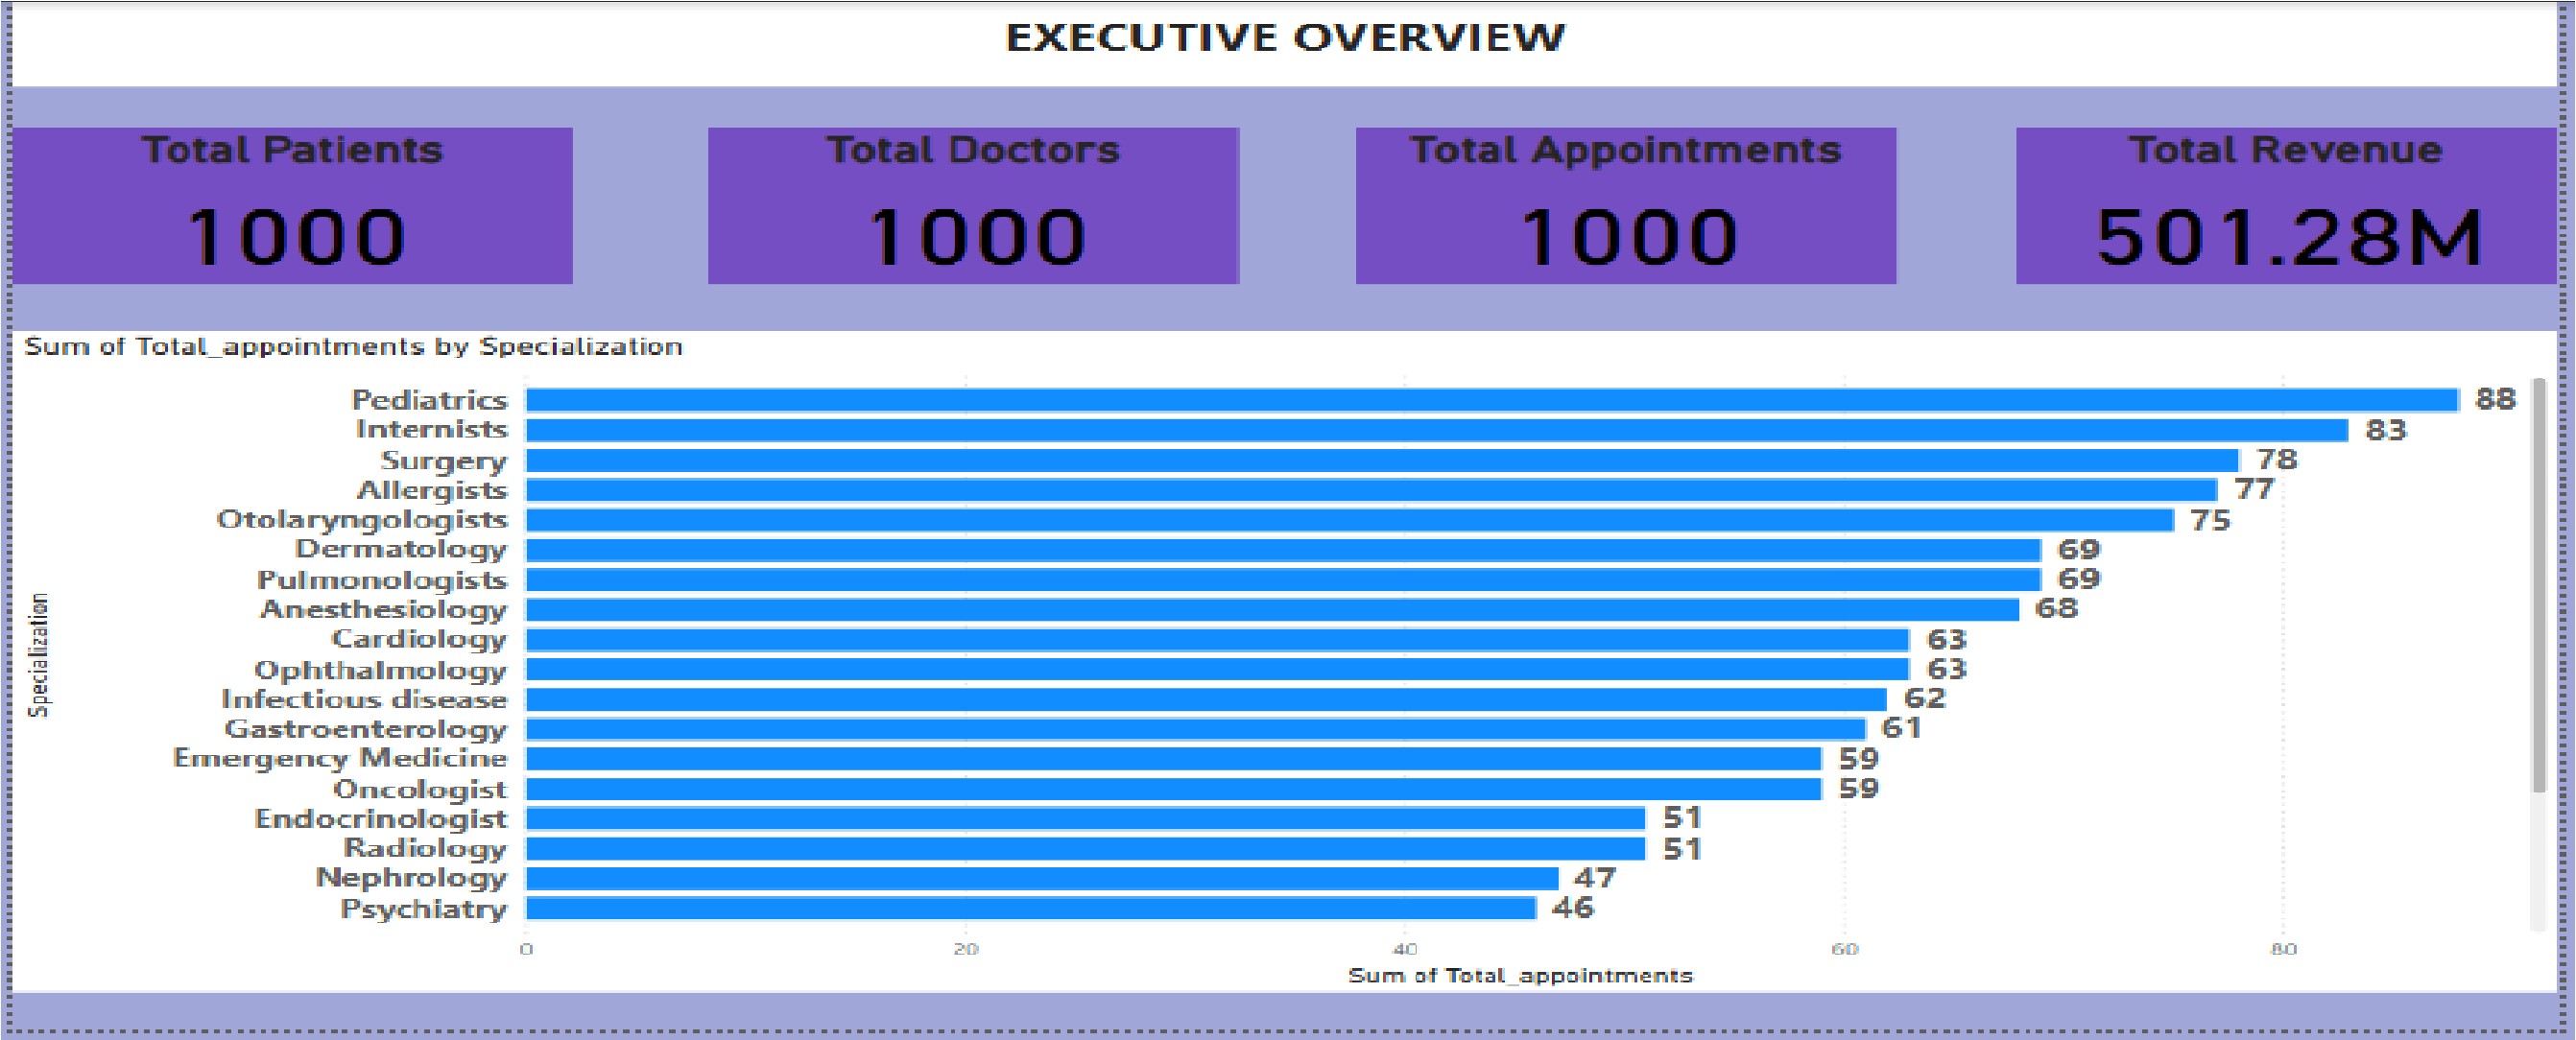

Layout of this report page (visuals, bound fields, positions):
{"tool":"powerbi","page":{"name":"Executive Overview","canvas":[1280,720],"ordinal":4},"visuals":[{"type":"textbox","box":[0,0,1279.8,58.8],"z":0},{"type":"card","title":"Total  Patients","fields":{"Values":["Sum(hospital vw_hospital_dashboard.Total_patients)"]},"box":[0,88.2,282.1,108.7],"z":1000},{"type":"card","title":"Total Doctors","fields":{"Values":["Sum(hospital vw_hospital_dashboard.Total_doctors)"]},"box":[349.7,88.2,267.4,108.7],"z":2000},{"type":"card","title":"Total  Appointments","fields":{"Values":["Sum(hospital vw_hospital_dashboard.Total_appointments)"]},"box":[675.9,88.2,271.8,108.7],"z":3000},{"type":"card","title":"Total  Revenue","fields":{"Values":["Sum(hospital vw_hospital_dashboard.Total_revenue)"]},"box":[1008,88.2,271.8,108.7],"z":4000},{"type":"clusteredBarChart","title":"Total appointments by Specialization","fields":{"Category":["hospital vw_doctor_performance.Specialization"],"Y":["Sum(hospital vw_doctor_performance.Total_appointments)"]},"box":[0,230.7,1279.8,464.3],"z":5000}]}

Visuals, with their boxes on the page's 1280x720 design canvas (x1, y1, x2, y2). These are canvas units, not pixel positions in the 2576x1040 screenshot, which may show the page scaled, cropped or inside an application window:
textbox: <box>0,0,1280,59</box>
"Total  Patients" card: <box>0,88,282,197</box>
"Total Doctors" card: <box>350,88,617,197</box>
"Total  Appointments" card: <box>676,88,948,197</box>
"Total  Revenue" card: <box>1008,88,1280,197</box>
"Total appointments by Specialization" clusteredBarChart: <box>0,231,1280,695</box>
